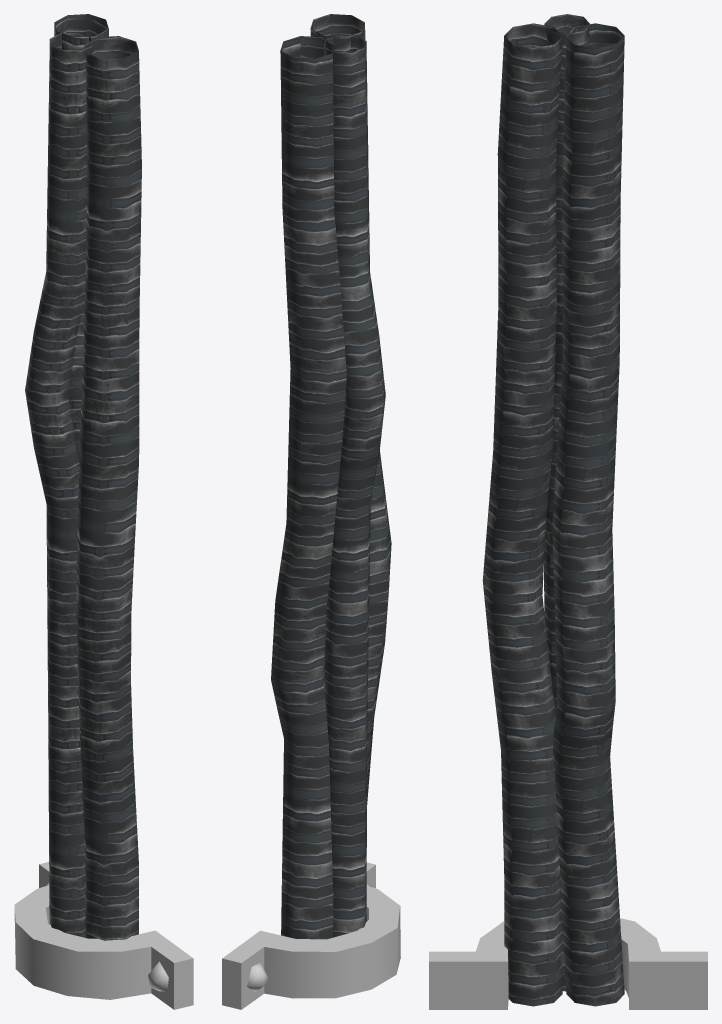
Rendered from SM_wall_wire_02.fbx.
The picture shows the model from 3 angles, left to right: view 1: azimuth 30°, elevation 25°; view 2: azimuth 150°, elevation 25°; view 3: azimuth 270°, elevation 25°; orthographic projection. The views are drawn at different scales.
Visible parts, largest first — view 1: SM_wall_wire_02_LOD0; view 2: SM_wall_wire_02_LOD0; view 3: SM_wall_wire_02_LOD0.
Part boxes in pixels (x1,y1,x2,y2): SM_wall_wire_02_LOD0: (14, 14, 193, 1009); SM_wall_wire_02_LOD0: (222, 14, 400, 1009); SM_wall_wire_02_LOD0: (429, 14, 707, 1009).
Size of the model in its own units: 12.14 by 26.36 by 100.
